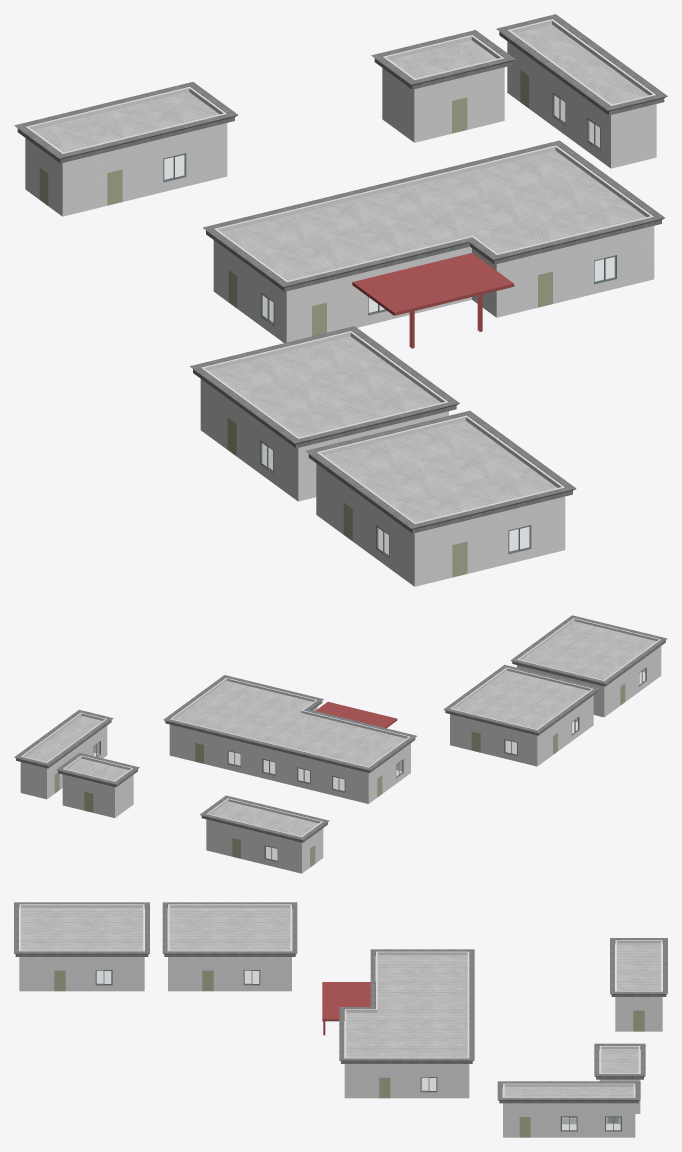
Rendered from Plan(REF)_levels(1)_window(W Sliding2 23_4)_wall(WAFRA WALL)_quoin(N)_cornice(Y).fbx.
The picture shows the model from 3 angles, top to bottom: view 1: azimuth 30°, elevation 25°; view 2: azimuth 150°, elevation 25°; view 3: azimuth 270°, elevation 25°; orthographic projection. The views are drawn at different scales.
Parts seen in each view (by area): view 1: WAFRA Stucco - White Rough 23, WAFRA Roof - Corrugated Sheet Matte 23, Concrete - Structural, WAFRA Roof - Standing Seam Red Coat 23, Color - Beige, Glass - Clear, Metal - Finish - Aluminum; view 2: WAFRA Stucco - White Rough 23, WAFRA Roof - Corrugated Sheet Matte 23, Concrete - Structural, Color - Beige, Glass - Clear, WAFRA Roof - Standing Seam Red Coat 23, Metal - Finish - Aluminum; view 3: WAFRA Roof - Corrugated Sheet Matte 23, WAFRA Stucco - White Rough 23, Concrete - Structural, WAFRA Roof - Standing Seam Red Coat 23, Color - Beige, Glass - Clear, Metal - Finish - Aluminum.
Part boxes in pixels (x1,y1,x2,y2): WAFRA Stucco - White Rough 23: (25,19,656,586); WAFRA Roof - Corrugated Sheet Matte 23: (33,24,648,522); Concrete - Structural: (14,14,667,533); WAFRA Roof - Standing Seam Red Coat 23: (352,253,514,348); Color - Beige: (39,70,552,577); Glass - Clear: (164,95,614,554); Metal - Finish - Aluminum: (163,93,616,558); WAFRA Stucco - White Rough 23: (20,618,661,873); WAFRA Roof - Corrugated Sheet Matte 23: (25,621,656,836); Concrete - Structural: (14,615,667,842); Color - Beige: (54,683,625,867); Glass - Clear: (94,669,644,860); WAFRA Roof - Standing Seam Red Coat 23: (315,702,397,728); Metal - Finish - Aluminum: (93,667,646,862); WAFRA Roof - Corrugated Sheet Matte 23: (21,907,660,1096); WAFRA Stucco - White Rough 23: (19,904,662,1137); Concrete - Structural: (14,902,667,1103); WAFRA Roof - Standing Seam Red Coat 23: (322,982,375,1035); Color - Beige: (54,970,644,1137); Glass - Clear: (97,971,620,1129); Metal - Finish - Aluminum: (95,970,621,1131).
Bounding box in the file's own units: 4244 × 5930 × 400.
Materials: 12 (5 with a texture image).
